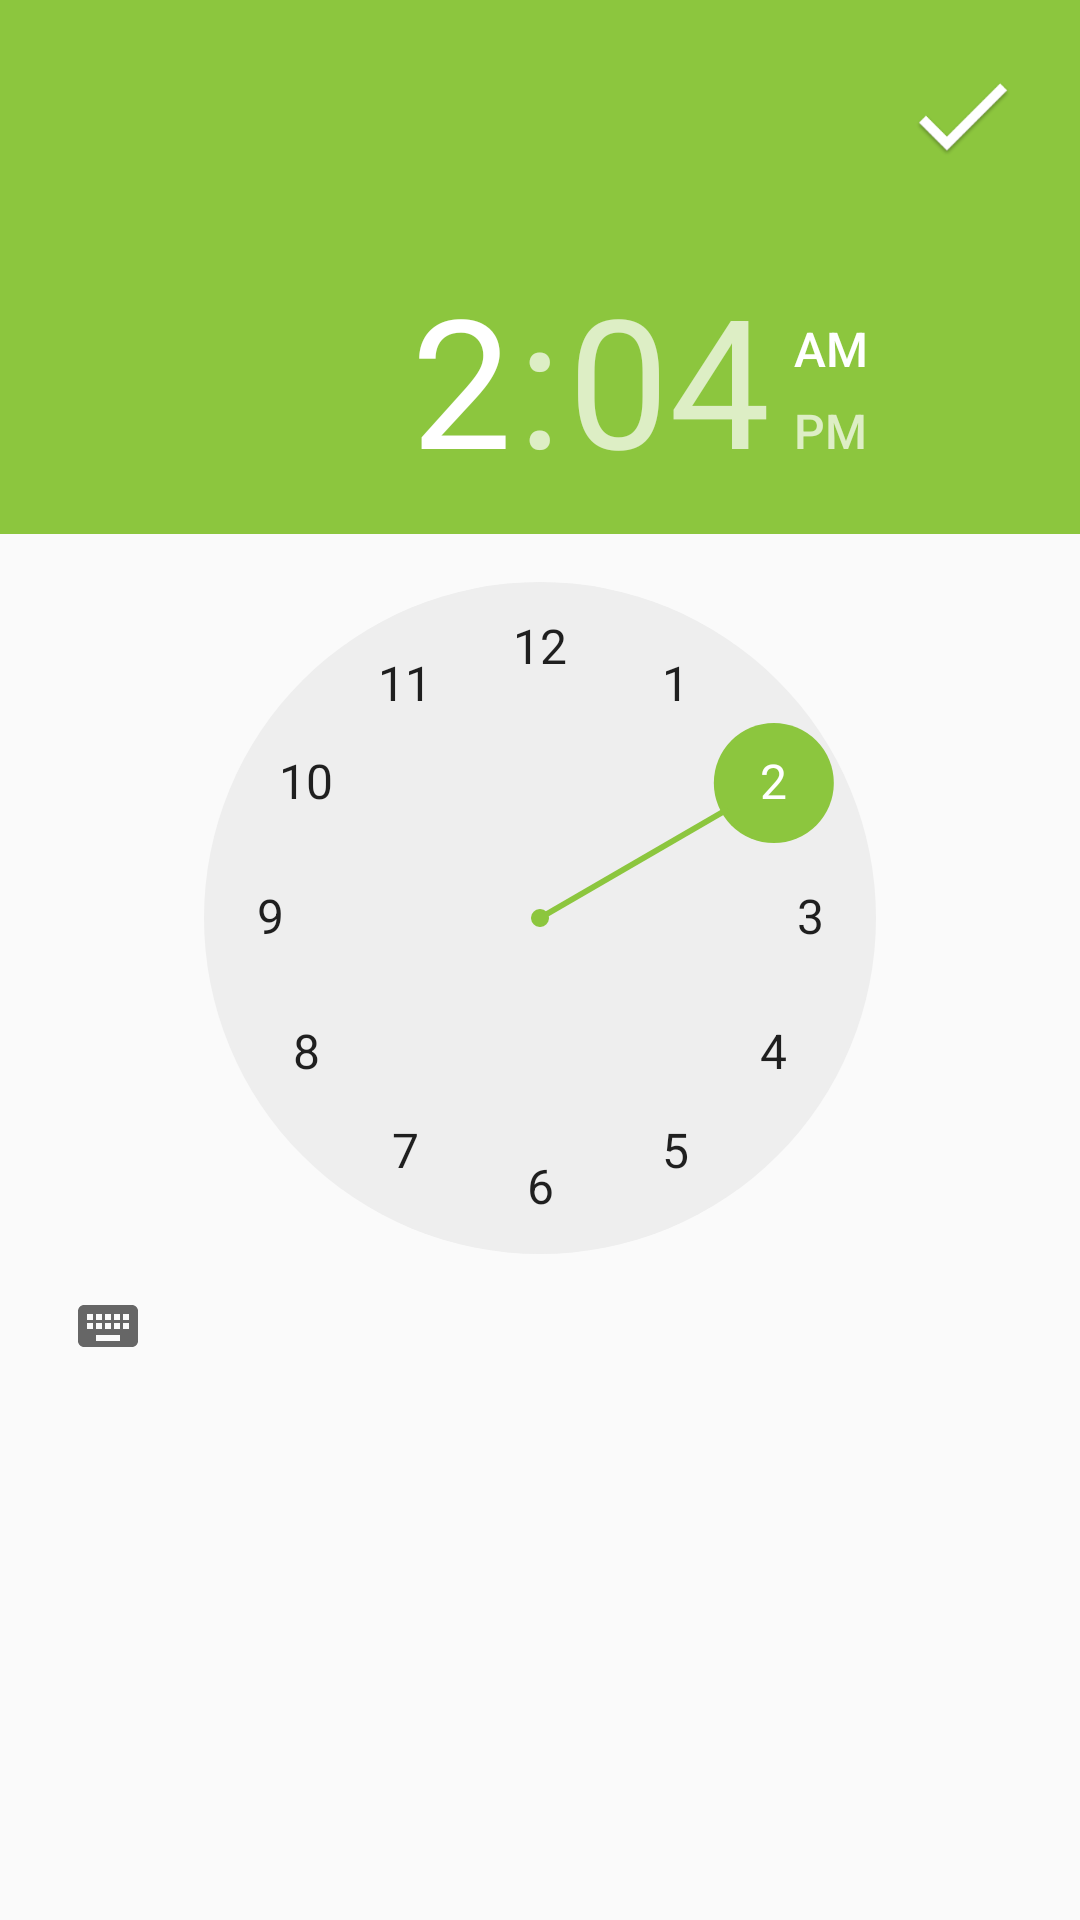

Named icons in this screenshot (1080×1920) and their centers, (x=x, y=y):
check: (x=963, y=117)
